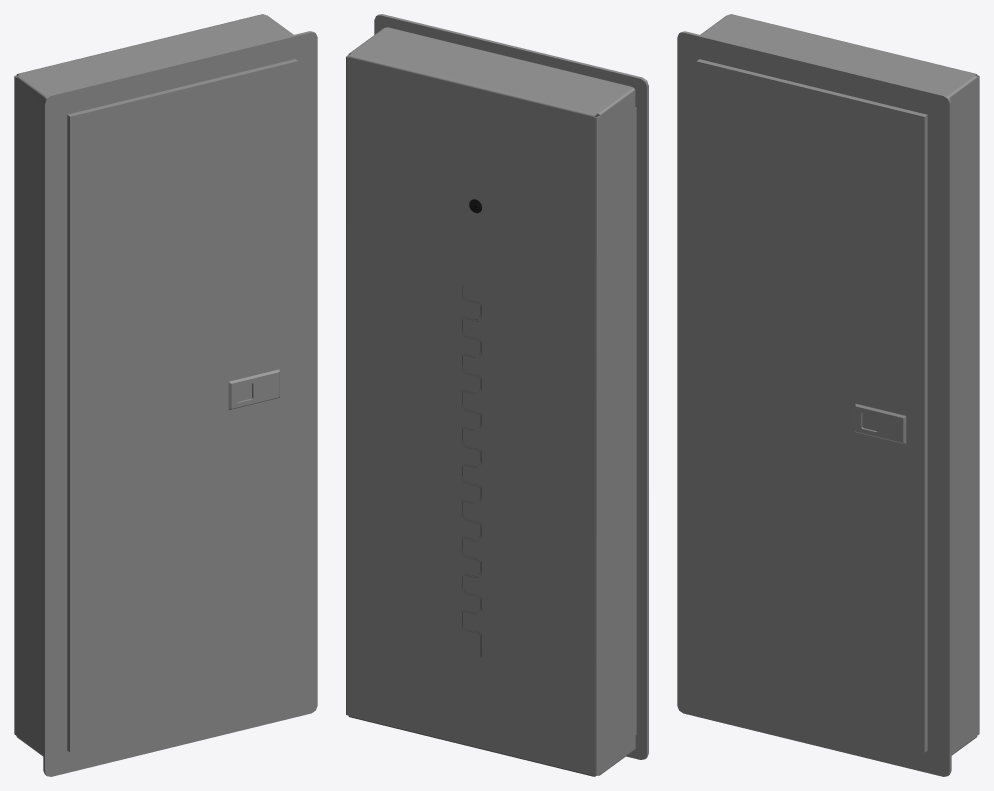
Rendered from LCWG_tiltlabs01.fbx.
3 renders of one model, left to right at view 1: azimuth 30°, elevation 25°; view 2: azimuth 150°, elevation 25°; view 3: azimuth 330°, elevation 25°, orthographic.
Parts seen in each view (by area): view 1: door.001, shell; view 2: shell, door.001, main_front; view 3: door.001, shell.
Boxes of the visible parts, box(x1,y1,x2,y2) form: door.001: box(43, 31, 317, 776); shell: box(14, 14, 293, 756); shell: box(346, 27, 636, 776); door.001: box(374, 14, 648, 759); main_front: box(461, 285, 481, 656); door.001: box(677, 31, 951, 776); shell: box(700, 14, 979, 755).
Size of what is drawn, in the model's own units: 39.55 by 94.38 by 11.47.
Materials: 11 (4 with a texture image).
